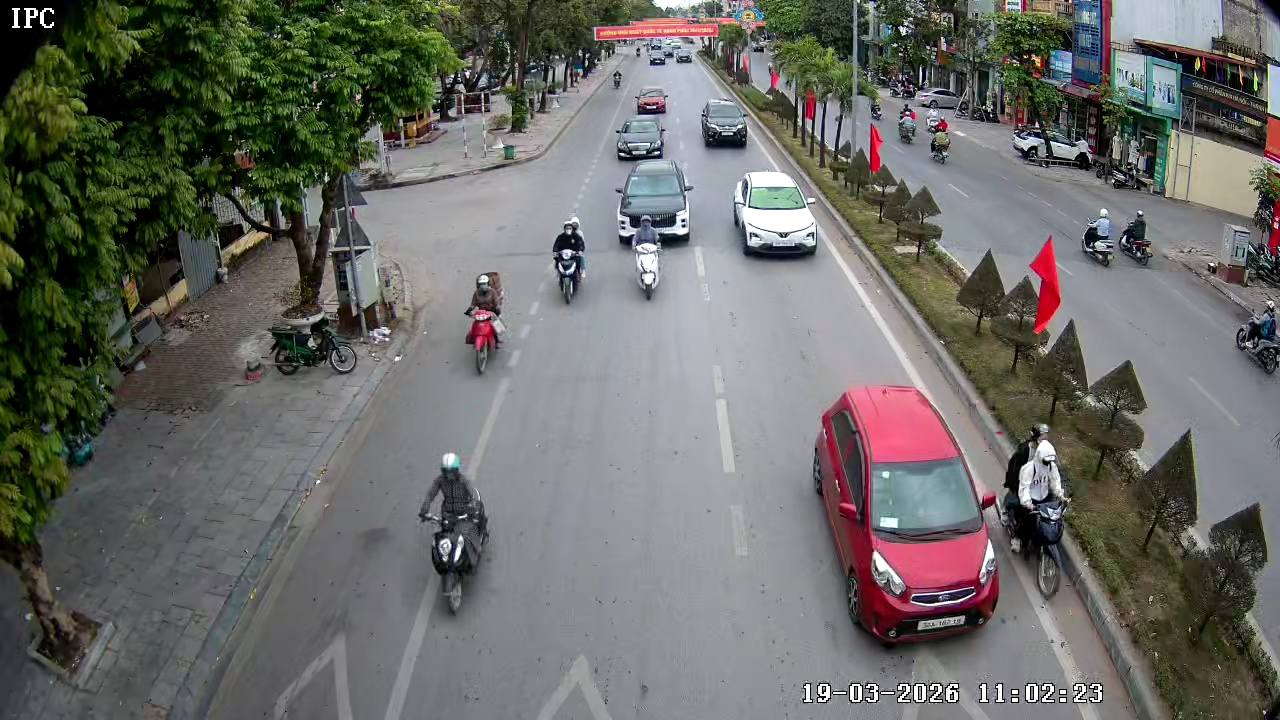car: (810, 385, 999, 649), (731, 171, 820, 258), (614, 158, 695, 244), (700, 98, 750, 148), (615, 112, 666, 161), (635, 81, 669, 114), (649, 49, 667, 68), (675, 48, 696, 64)
motorbike: (999, 422, 1072, 599), (417, 452, 490, 616), (267, 316, 371, 384), (462, 270, 508, 375), (551, 216, 588, 305), (631, 214, 664, 301), (1080, 207, 1116, 267), (1119, 208, 1154, 268), (612, 65, 624, 89)
